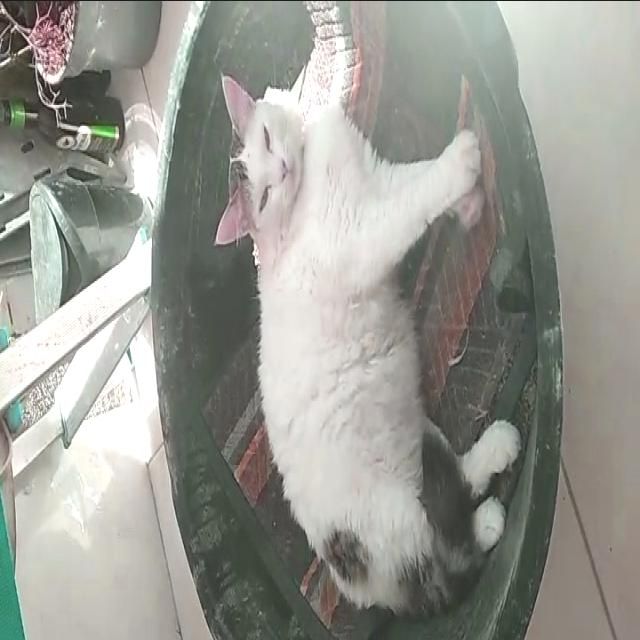Simba: (194, 54, 512, 604)
